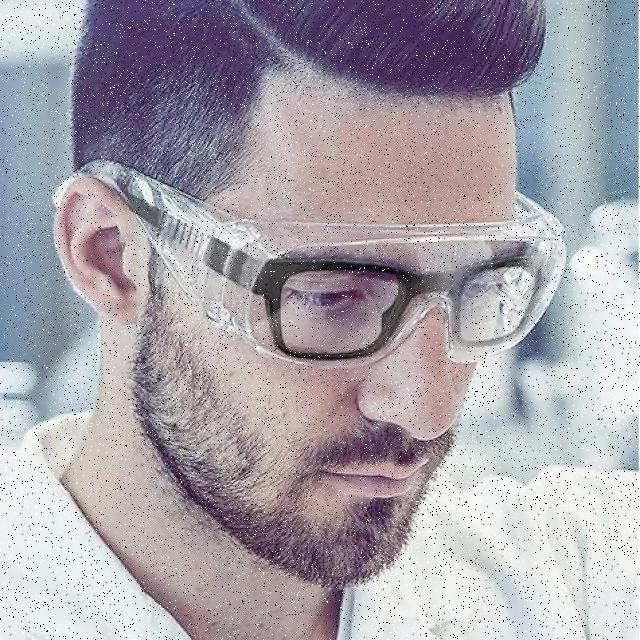Goggles: (47, 155, 598, 370)
